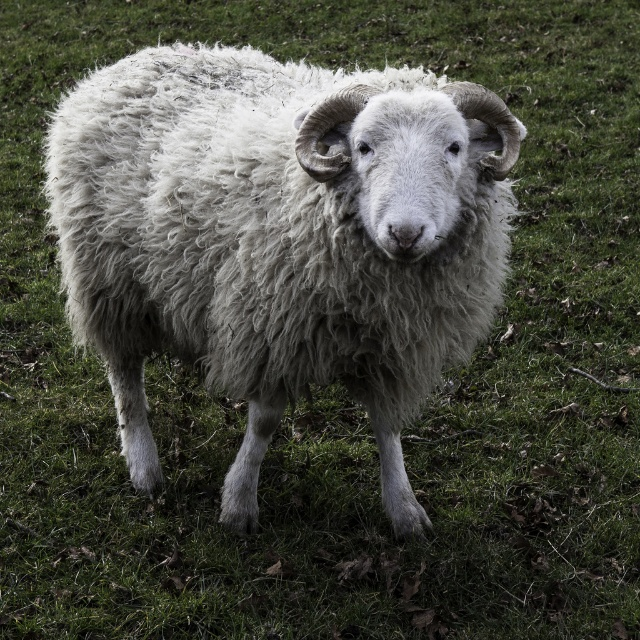Sheep: (29, 67, 523, 545)
